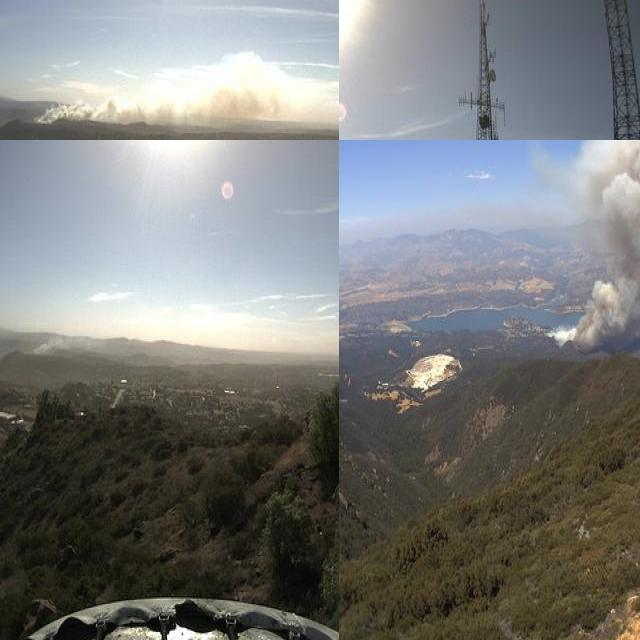smoke: (33, 46, 339, 132), (530, 140, 640, 349), (33, 317, 99, 360)
